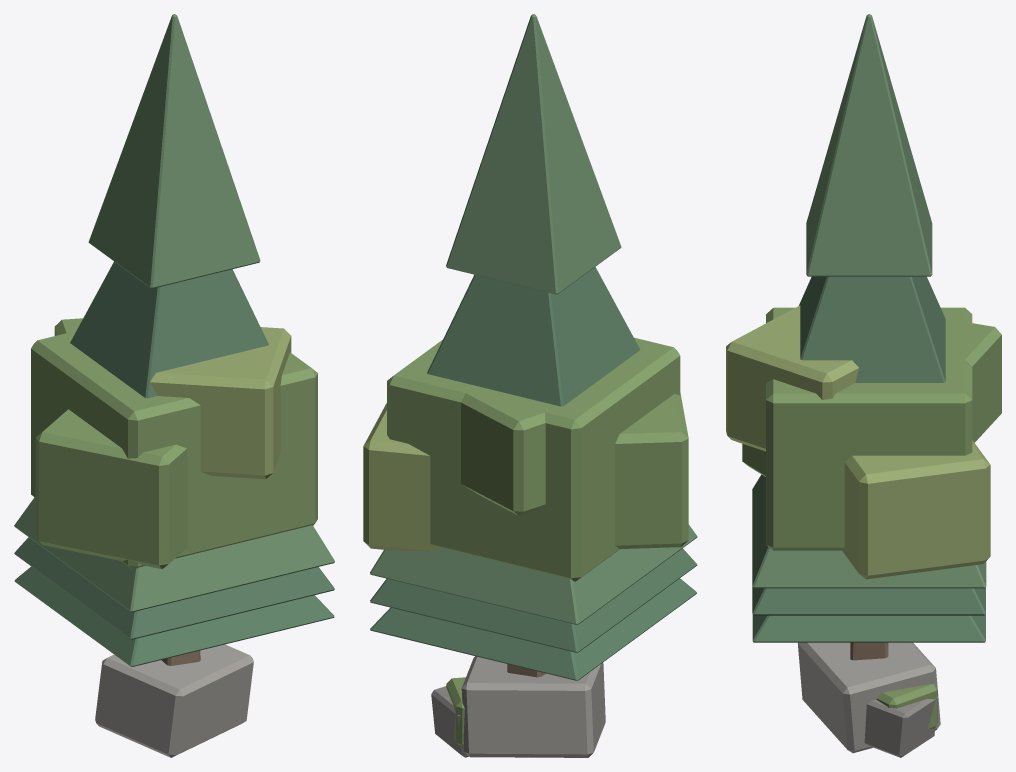
File: natur.glb
3 views of the same model, side by side, from view 1: azimuth 30°, elevation 25°; view 2: azimuth 150°, elevation 25°; view 3: azimuth 270°, elevation 25° (orthographic). The views are drawn at different scales.
Parts seen in each view (by area): view 1: Laub_0, Tanne_1, Stein_2, Tanne_0, Tanne_2; view 2: Laub_0, Tanne_1, Stein_2, Tanne_0, Tanne_2, Busch_0; view 3: Laub_0, Tanne_1, Stein_2, Tanne_0, Tanne_2, Busch_0, Tot_1.
Part boxes in pixels (x1,y1,x2,y2): Laub_0: [31, 318, 317, 569]; Tanne_1: [14, 14, 334, 612]; Stein_2: [95, 644, 253, 757]; Tanne_0: [14, 537, 334, 639]; Tanne_2: [14, 566, 334, 666]; Laub_0: [363, 337, 688, 581]; Tanne_1: [370, 14, 697, 625]; Stein_2: [431, 656, 605, 757]; Tanne_0: [370, 548, 697, 652]; Tanne_2: [370, 578, 696, 680]; Busch_0: [446, 677, 465, 745]; Laub_0: [726, 305, 1001, 579]; Tanne_1: [752, 14, 986, 588]; Stein_2: [797, 642, 940, 757]; Tanne_0: [752, 587, 985, 615]; Tanne_2: [752, 614, 985, 642]; Busch_0: [876, 683, 937, 728]; Tot_1: [850, 642, 888, 660].
Size of the model in its own units: 3.58 by 8.66 by 3.05.
